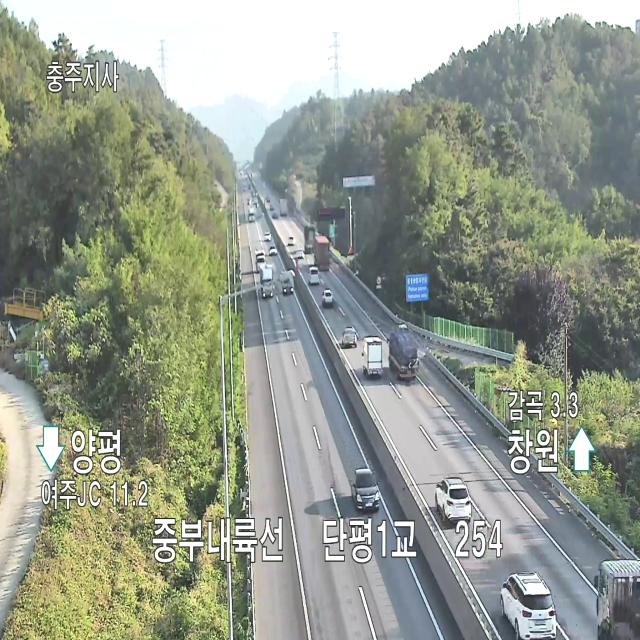Car: (500, 573, 558, 640), (434, 476, 472, 526), (353, 470, 380, 514), (339, 318, 359, 350), (277, 260, 294, 296), (320, 288, 334, 306), (308, 265, 318, 285), (267, 244, 278, 261), (263, 228, 274, 244), (295, 246, 304, 264), (287, 235, 298, 248)
Truck: (591, 531, 639, 640), (391, 319, 418, 384), (361, 332, 383, 390), (313, 232, 329, 273), (258, 263, 274, 301), (302, 219, 314, 256), (253, 244, 265, 273), (279, 197, 288, 220), (248, 208, 255, 225)
